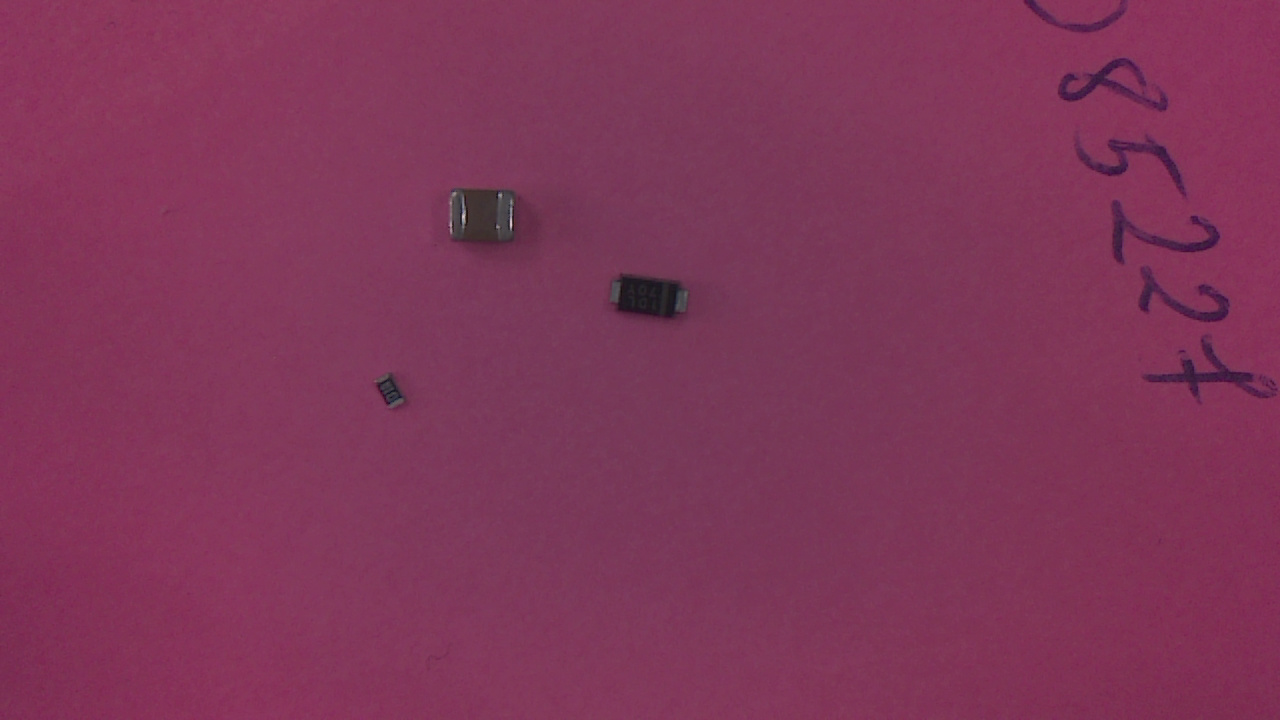Condensator: (454, 190, 523, 252)
Diode: (612, 274, 698, 330)
Resistor: (381, 377, 414, 415)
